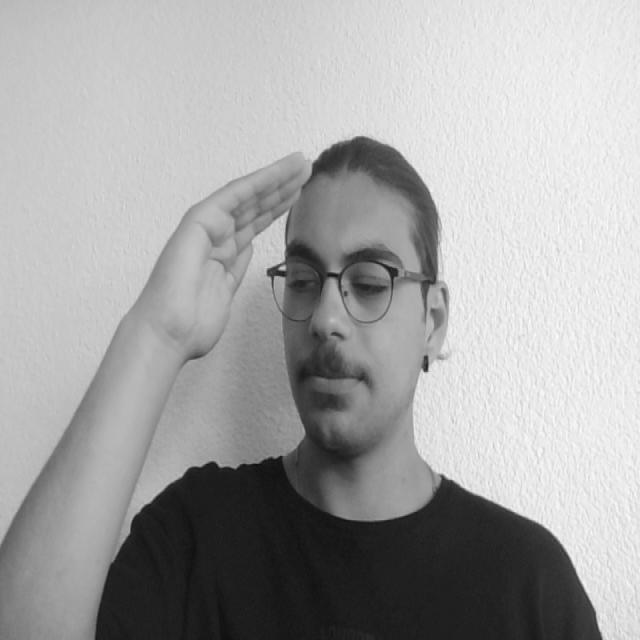Merhaba: (150, 136, 320, 398)
